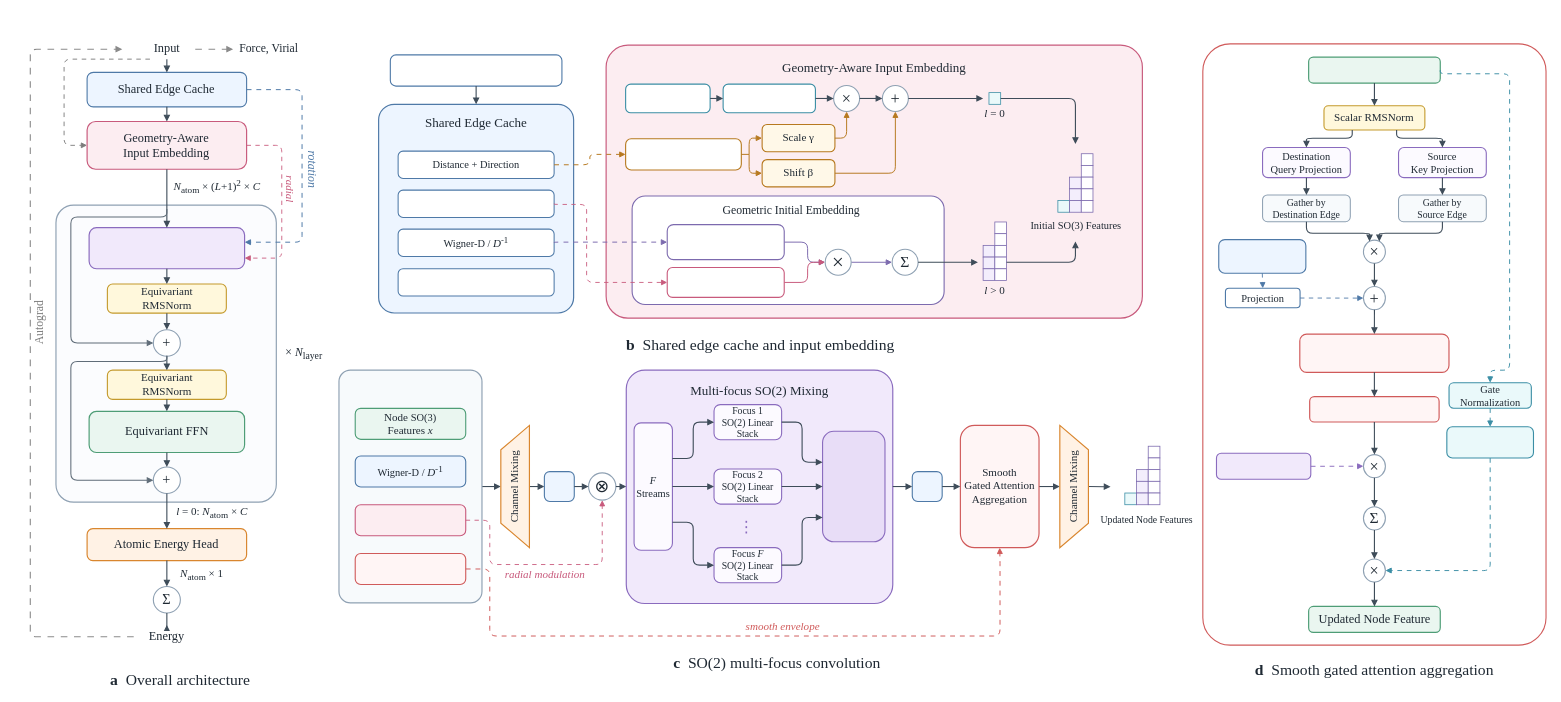
Some shapes in this 1561 by 702 pixel diagram are drawn without their labels. The shapes that lost their labels are listed below. From the top down, each one's box as (x1, y1, x2, y2) in pixels, then its label:
(389, 54, 562, 86): Coord & Type & Neighbor List
(1308, 56, 1441, 83): Node Scalar Features
(625, 83, 710, 113): Atom Type
(722, 83, 816, 113): Type Features
(625, 138, 742, 170): Environment Encoder
(397, 189, 554, 218): Radial Basis + Envelope
(88, 227, 245, 269): SO(2) Multi-focus Convolution
(666, 224, 784, 260): Inverse Wigner-D m = 0 Column
(1218, 239, 1306, 273): Radial Scalar Features
(397, 268, 554, 296): Edge Type Features
(666, 267, 784, 298): Radial Features
(1299, 333, 1449, 373): Smooth Gated Softmax
(1309, 396, 1439, 422): Attention Weights
(1446, 426, 1534, 458): Sigmoid Head Gate
(338, 369, 482, 603): Block Inputs
(822, 430, 885, 542): Cross Focus Softmax Competition
(1216, 452, 1311, 480): Edge Message
(544, 471, 575, 502): D ij
(911, 471, 942, 502): D ij -1
(354, 504, 466, 536): Radial & Type Features
(354, 553, 466, 585): Cutoff Envelope
